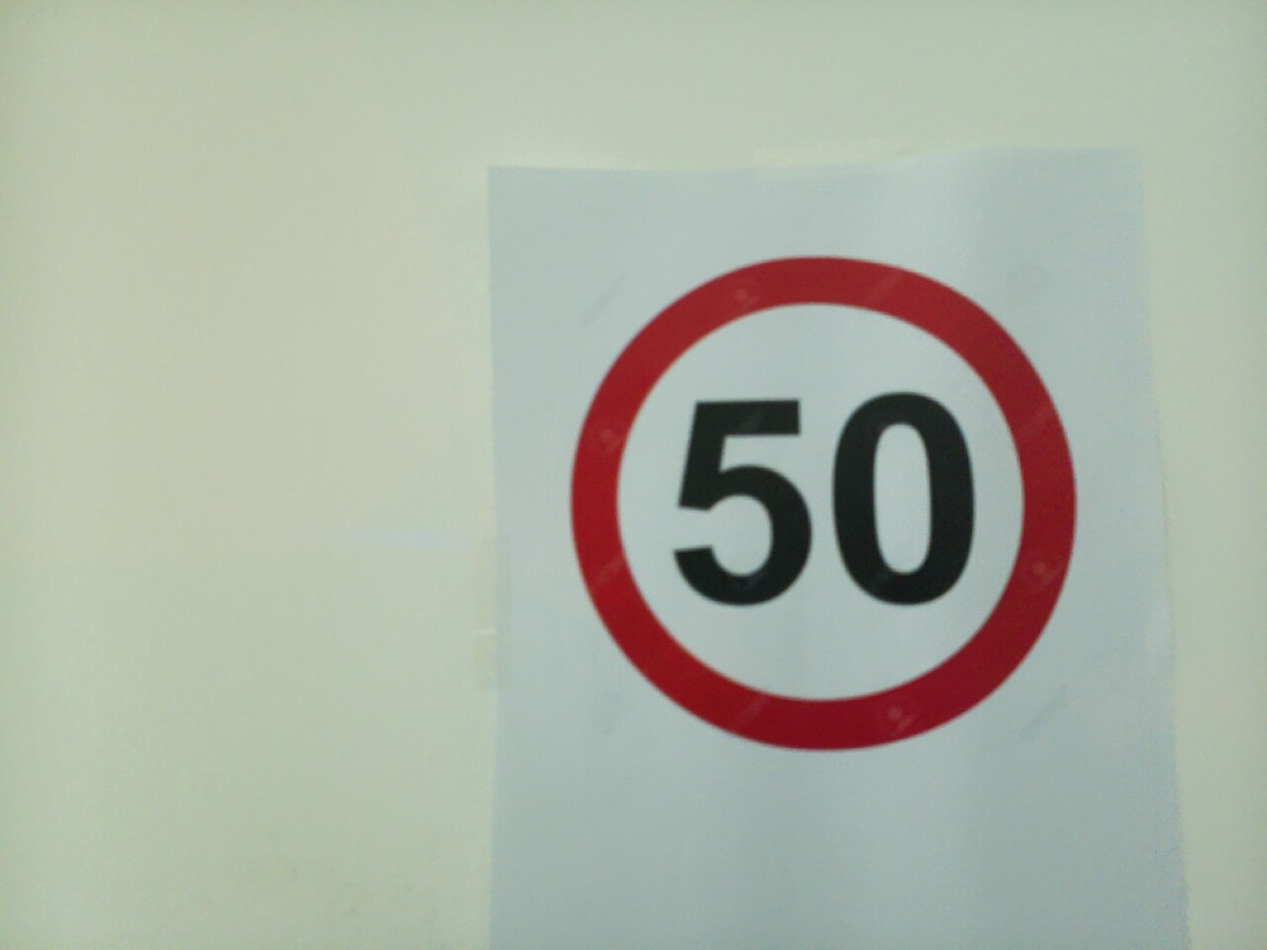speed_50: (826, 384, 981, 614)
